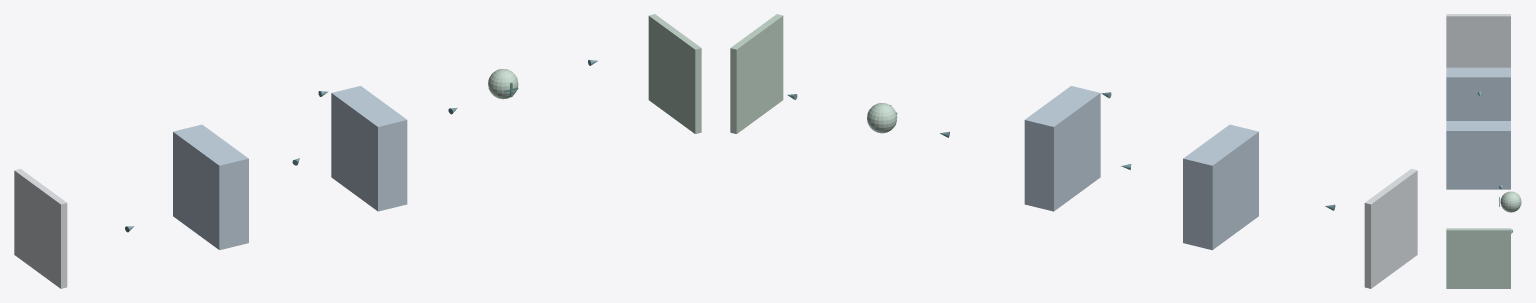
Rendered from residual-basic.glb.
3 renders of one model, left to right at view 1: azimuth 30°, elevation 25°; view 2: azimuth 150°, elevation 25°; view 3: azimuth 270°, elevation 25°, orthographic. The views are drawn at different scales.
Visible parts, largest first — view 1: 3×3 Conv · BN · C × H × W, 3×3 Conv · BN + ReLU · C × H × W, Input · C × H × W, ReLU · C × H × W, Add · C × H × W; view 2: 3×3 Conv · BN · C × H × W, 3×3 Conv · BN + ReLU · C × H × W, Input · C × H × W, ReLU · C × H × W, Add · C × H × W; view 3: 3×3 Conv · BN · C × H × W, ReLU · C × H × W, Input · C × H × W, 3×3 Conv · BN + ReLU · C × H × W, Add · C × H × W.
Part boxes in pixels (x1=…): 3×3 Conv · BN · C × H × W: x1=331, y1=86, x2=407, y2=211; 3×3 Conv · BN + ReLU · C × H × W: x1=173, y1=124, x2=248, y2=250; Input · C × H × W: x1=14, y1=169, x2=67, y2=288; ReLU · C × H × W: x1=648, y1=14, x2=701, y2=133; Add · C × H × W: x1=488, y1=69, x2=518, y2=99; 3×3 Conv · BN · C × H × W: x1=1024, y1=86, x2=1100, y2=211; 3×3 Conv · BN + ReLU · C × H × W: x1=1183, y1=124, x2=1258, y2=250; Input · C × H × W: x1=1364, y1=169, x2=1417, y2=288; ReLU · C × H × W: x1=730, y1=14, x2=783, y2=133; Add · C × H × W: x1=867, y1=103, x2=897, y2=133; 3×3 Conv · BN · C × H × W: x1=1446, y1=121, x2=1510, y2=189; ReLU · C × H × W: x1=1446, y1=228, x2=1510, y2=288; Input · C × H × W: x1=1446, y1=14, x2=1510, y2=67; 3×3 Conv · BN + ReLU · C × H × W: x1=1446, y1=67, x2=1510, y2=120; Add · C × H × W: x1=1500, y1=191, x2=1521, y2=212.
Bounding box in the file's own units: 21.82 × 3.61 × 3.2.
